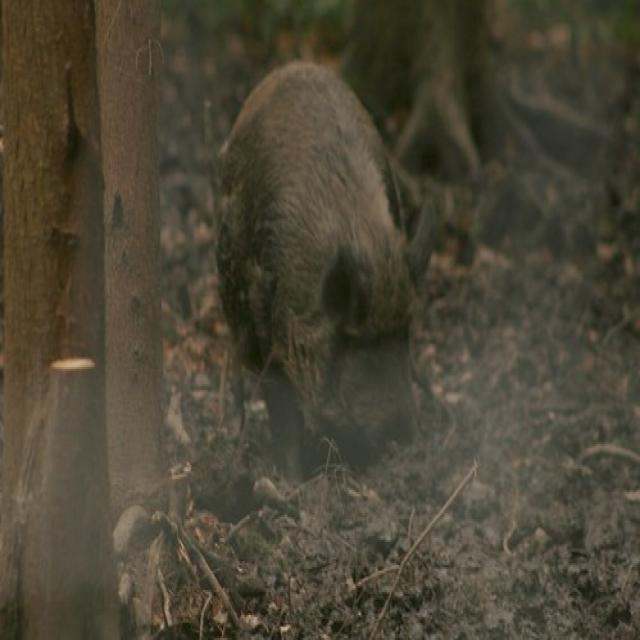boar: (188, 22, 468, 488)
